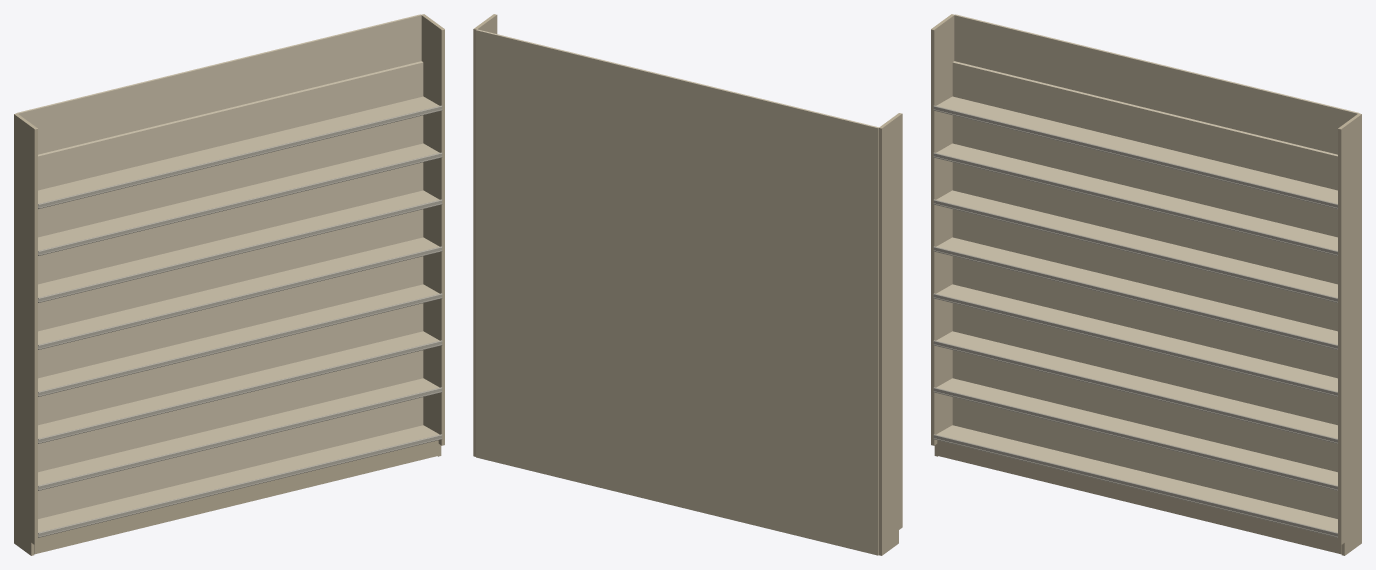
Rendered from new-release-wall.glb.
The picture shows the model from 3 angles, left to right: view 1: azimuth 30°, elevation 25°; view 2: azimuth 150°, elevation 25°; view 3: azimuth 330°, elevation 25°; orthographic projection.
Visible parts, largest first — view 1: Backing, HighBack_7, HighBack_1, HighBack_3, HighBack_2, HighBack_6, HighBack_0, HighBack_4, HighBack_5, LeftEnd, RightEnd, Toe (+16 smaller); view 2: Backing, LeftEnd, RightEnd; view 3: Backing, HighBack_7, HighBack_1, HighBack_3, HighBack_2, HighBack_6, HighBack_0, HighBack_4, HighBack_5, RightEnd, LeftEnd, Toe (+16 smaller).
Part boxes in pixels (x1,y1,x2,y2): Backing: (17,14,421,154); HighBack_7: (38,61,423,190); HighBack_1: (38,350,423,472); HighBack_3: (38,256,423,378); HighBack_2: (38,303,423,425); HighBack_6: (38,115,423,237); HighBack_0: (38,397,423,518); HighBack_4: (38,209,423,331); HighBack_5: (38,162,423,284); LeftEnd: (14,113,37,555); RightEnd: (421,14,444,456); Toe: (34,440,438,554); Backing: (476,29,878,555); LeftEnd: (878,113,902,555); RightEnd: (473,14,497,456); Backing: (954,14,1358,154); HighBack_7: (952,61,1337,190); HighBack_1: (952,350,1337,472); HighBack_3: (952,256,1337,378); HighBack_2: (952,303,1337,425); HighBack_6: (952,115,1337,237); HighBack_0: (952,397,1337,518); HighBack_4: (952,209,1337,331); HighBack_5: (952,162,1337,284); RightEnd: (1338,113,1361,555); LeftEnd: (931,14,954,456); Toe: (937,440,1341,554).
Bounding box in the file's own units: 8 × 8 × 0.745.
